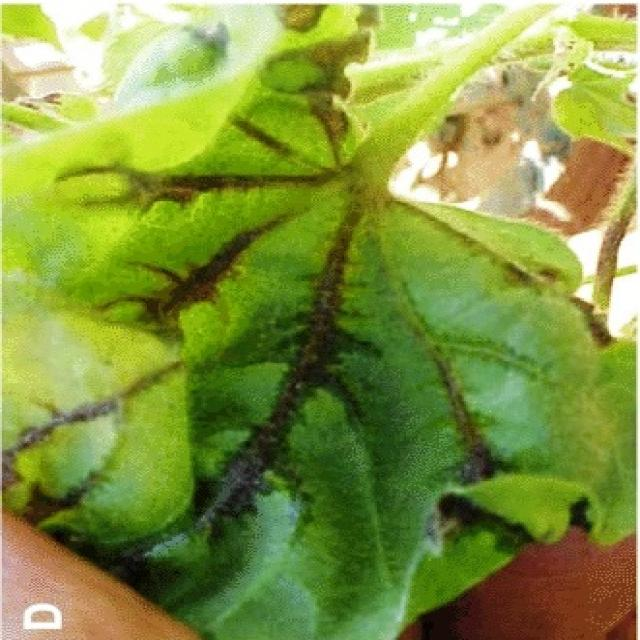Bacterial Blight: (69, 152, 416, 523)
